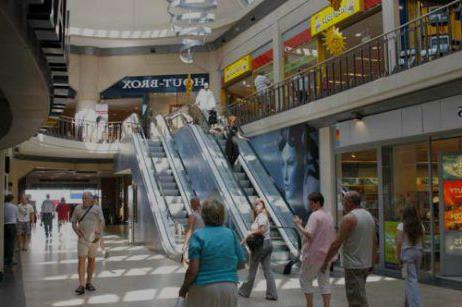Escaleras: (121, 120, 311, 266)
